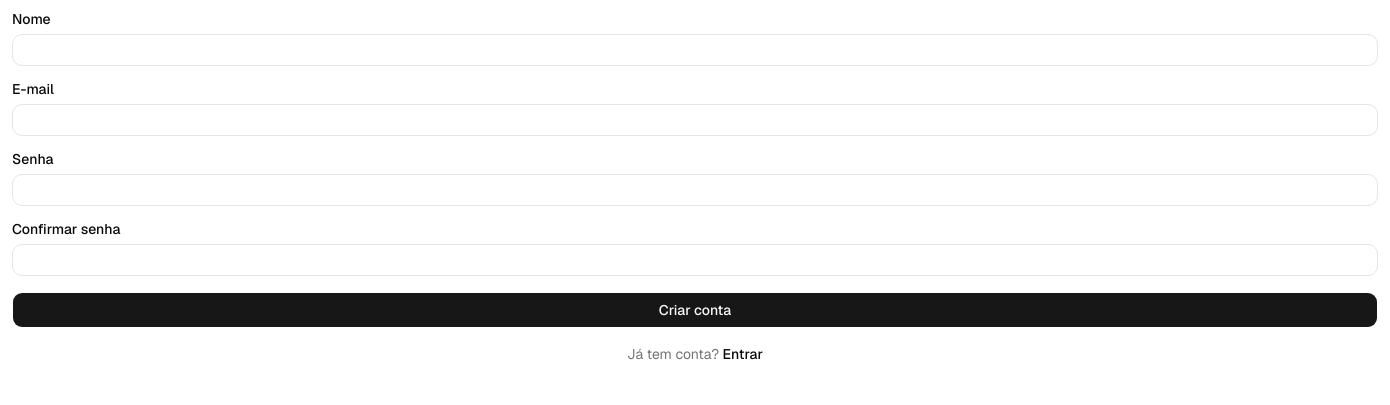
Test: SignupForm › requires matching passwords
In the field labelled "Nome": [695, 50] box [12,34,1378,66], type "Maria Silva"
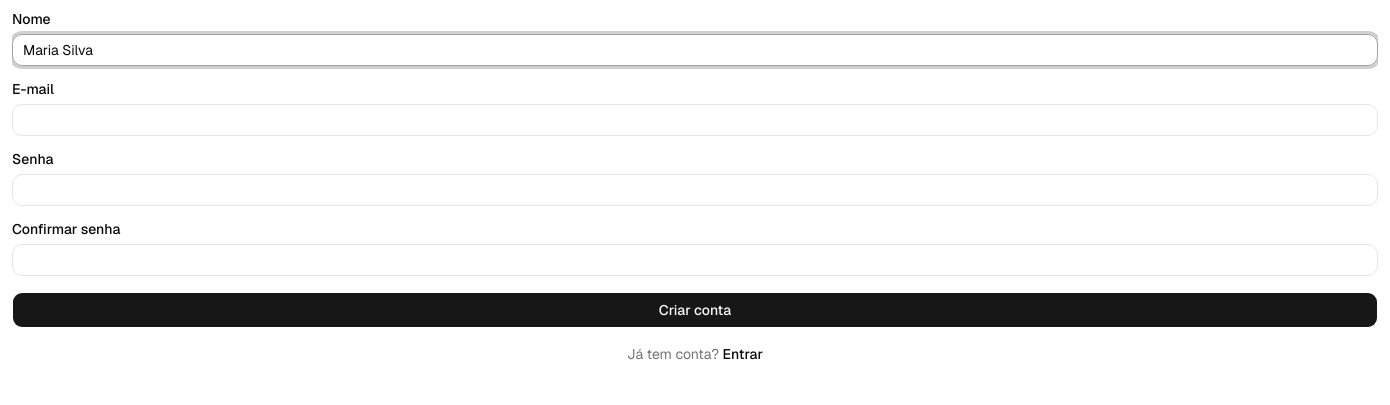
In the field labelled "E-mail": [695, 120] box [12,104,1378,136], type "maria@example.com"
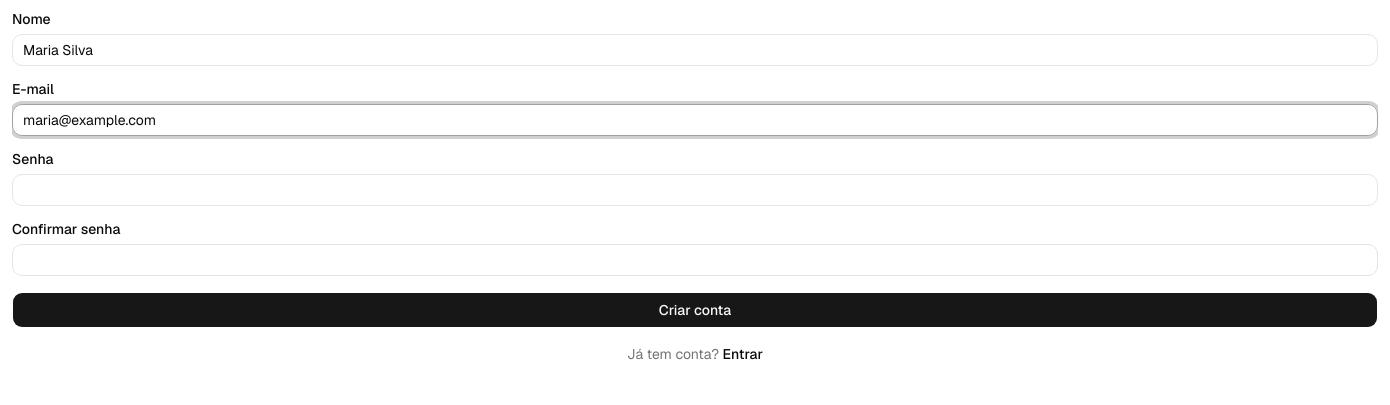
In the password field labelled "Senha": [695, 190] box [12,174,1378,206], type "senha-segura-1"
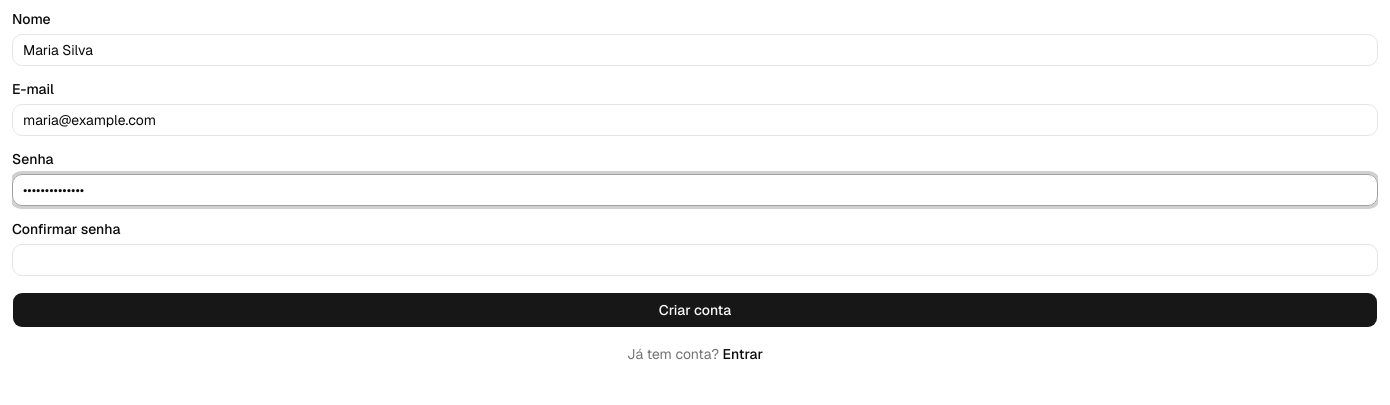
In the password field labelled "Confirmar senha": [695, 260] box [12,244,1378,276], type "diferente"
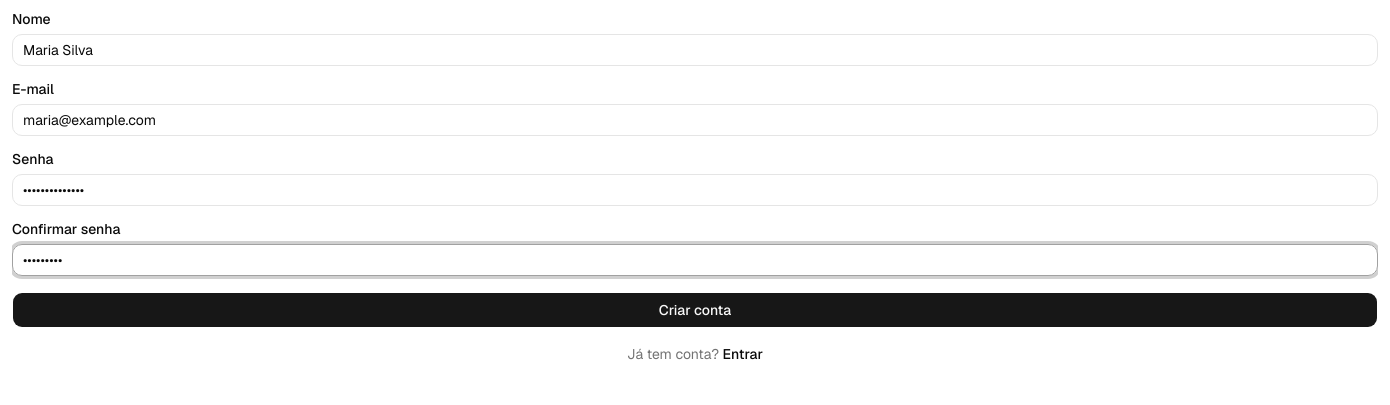
Click the button "Criar conta": [695, 310] box [12,292,1378,328]
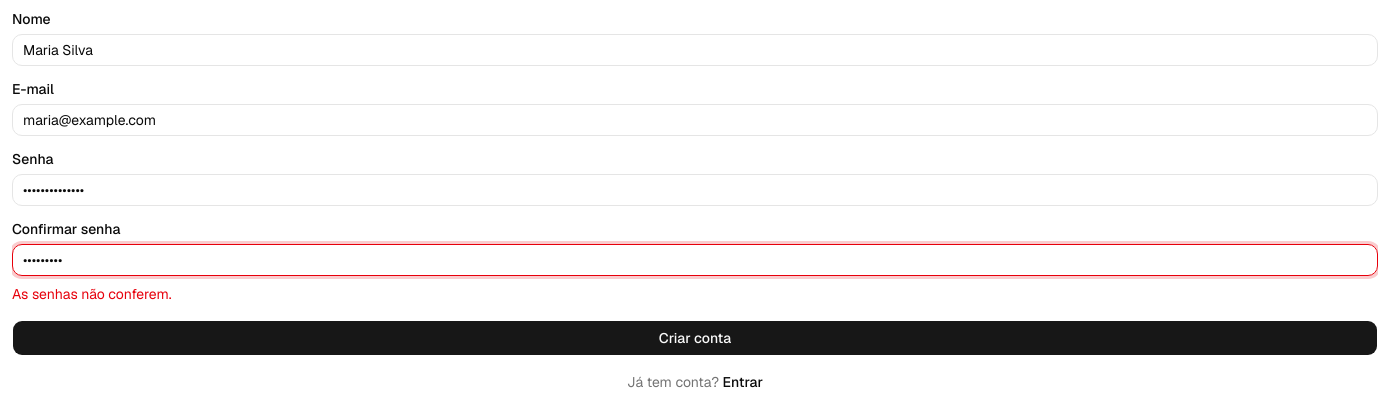
Now the text "As senhas não conferem." is shown, box [12,285,172,303]
